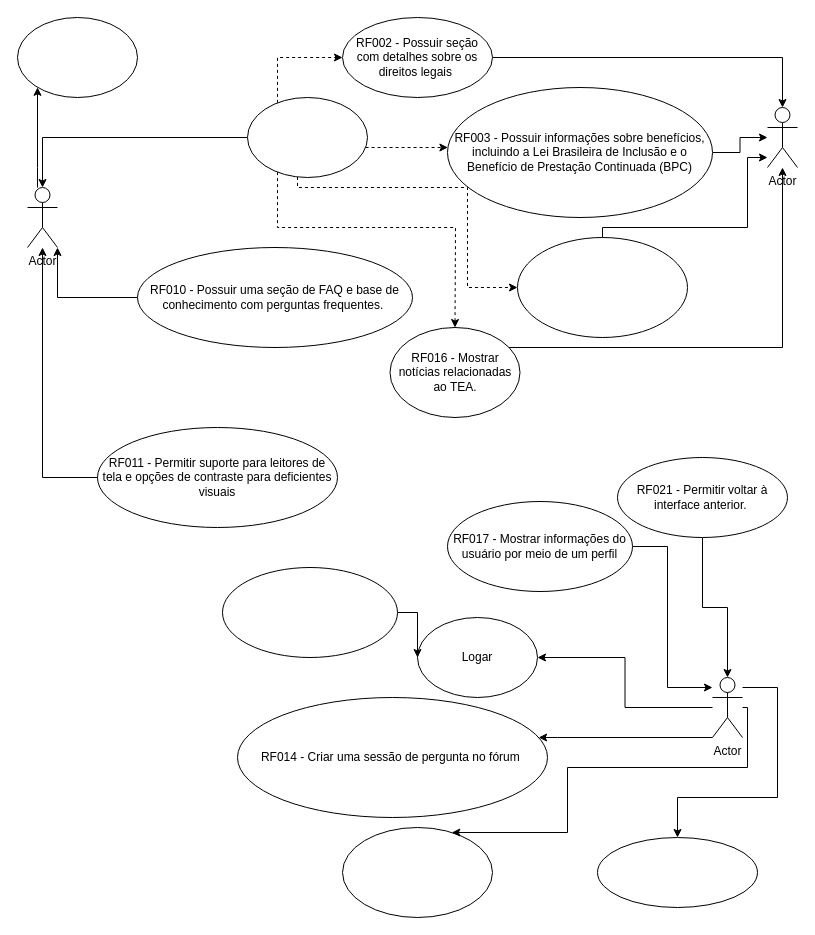
The diagram is 815 pixels wide and 935 high, and some of its shapes have lost their labels. The shapes that lost their labels are listed below. From the top down, each one's centre as x and y in pixels, then its label:
At pixel 77 57: "Cadastrar".
At pixel 307 137: "RF04 - Possuir guia de benefícios e direitos".
At pixel 602 287: "RF05 - Mostrar lista de documentos necessários para cada tipo de benefício".
At pixel 310 612: "RF019 - Manter logado".
At pixel 417 872: "RF020 - Sair da sua conta no dispositivo".
At pixel 677 872: "RF018 - Editar de dados".
